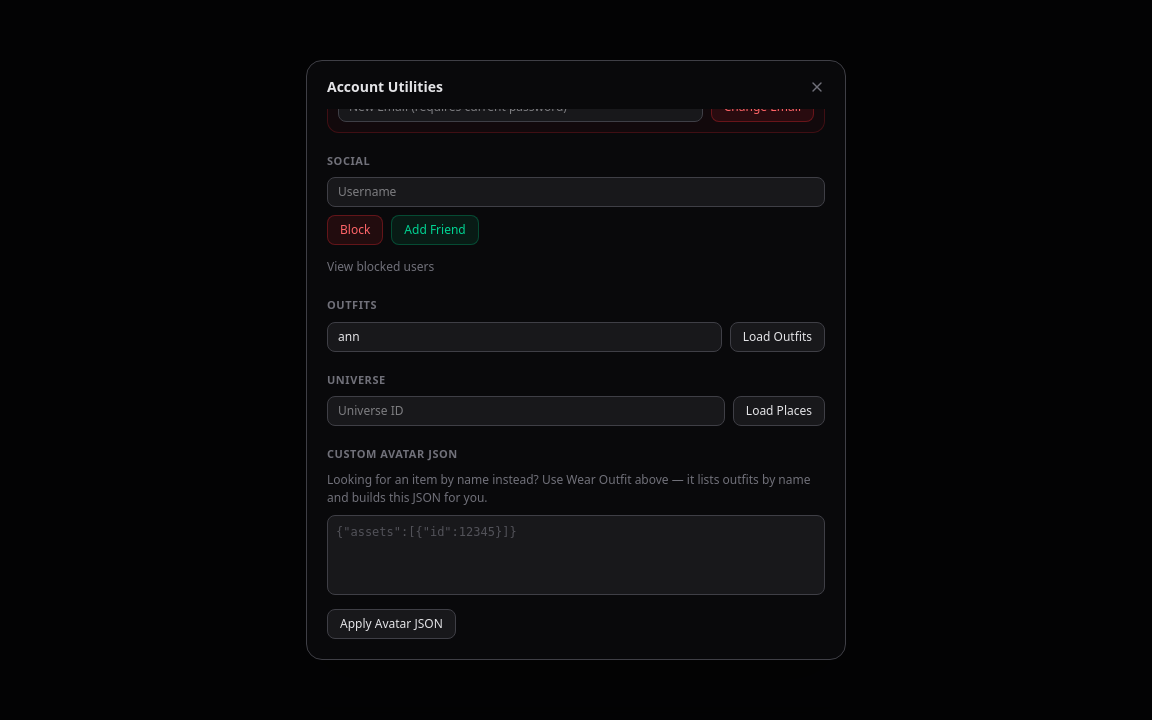
Test case: AccountUtilsDialog › Universe ID › loads places from a plain numeric Universe ID
(page scrolled)
Type "555" into the field with placeholder "Universe ID" at (526, 411), box [327,396,725,426]
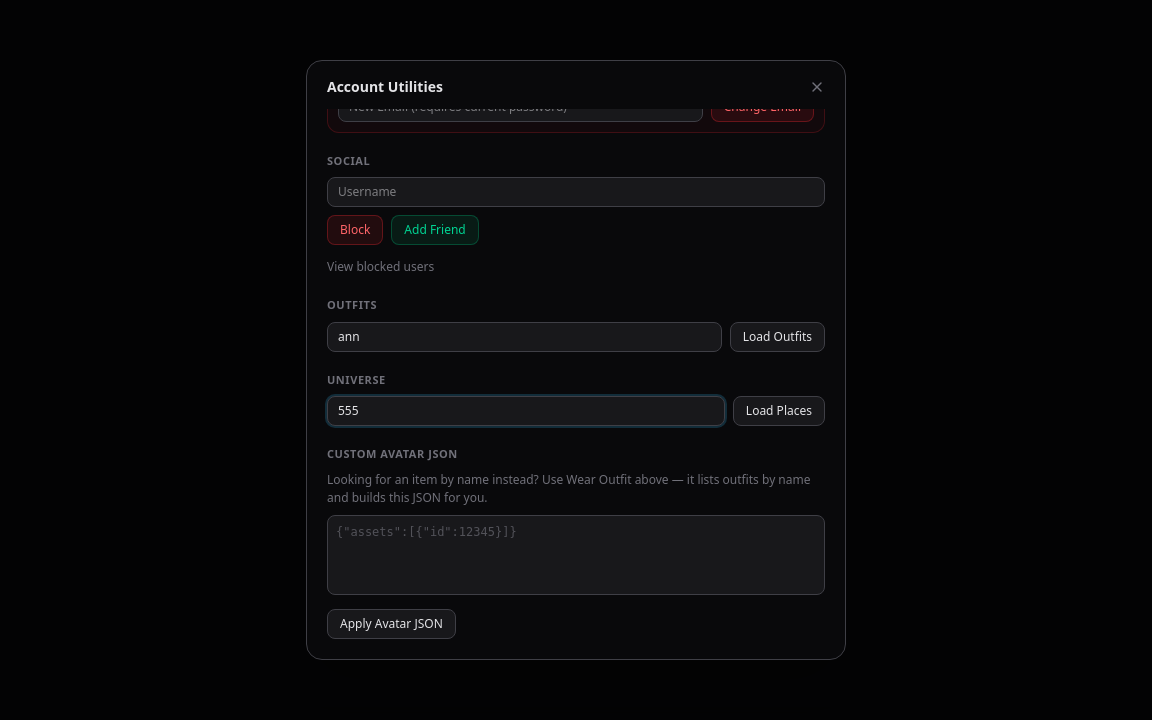
Click the button "Load Places" at (779, 411), box [733,396,825,426]
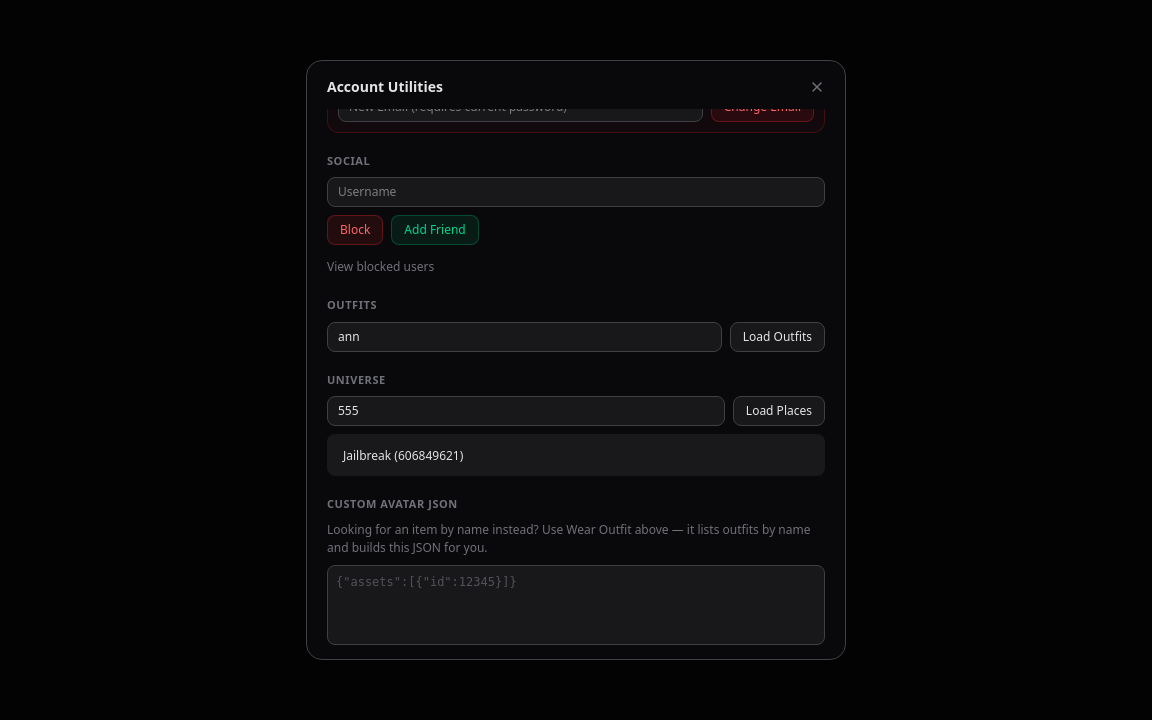
Now the button "Jailbreak (606849621)" is shown, box [335,444,817,468]
